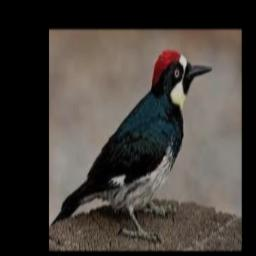Woodpecker: (51, 49, 213, 240)
